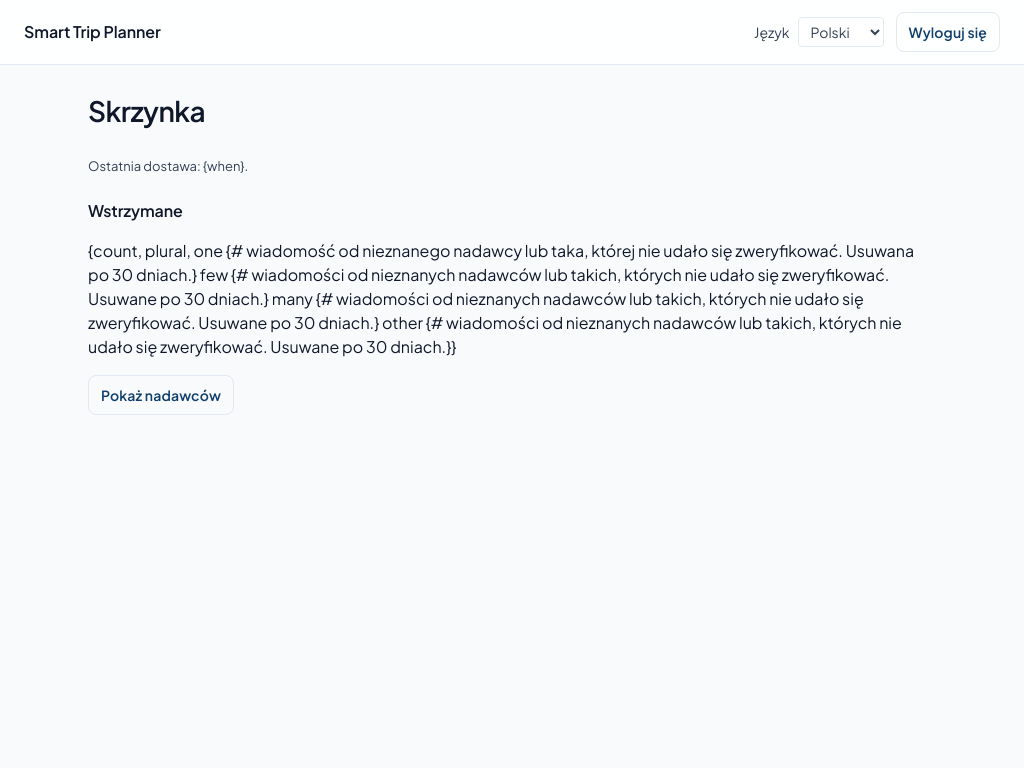
Test: quarantine › offers releasing for a failed authentication, and not trusting
Step 1. Click the button "Pokaż nadawców" → (161, 395), box top-left (88, 375), bottom-right (234, 415)
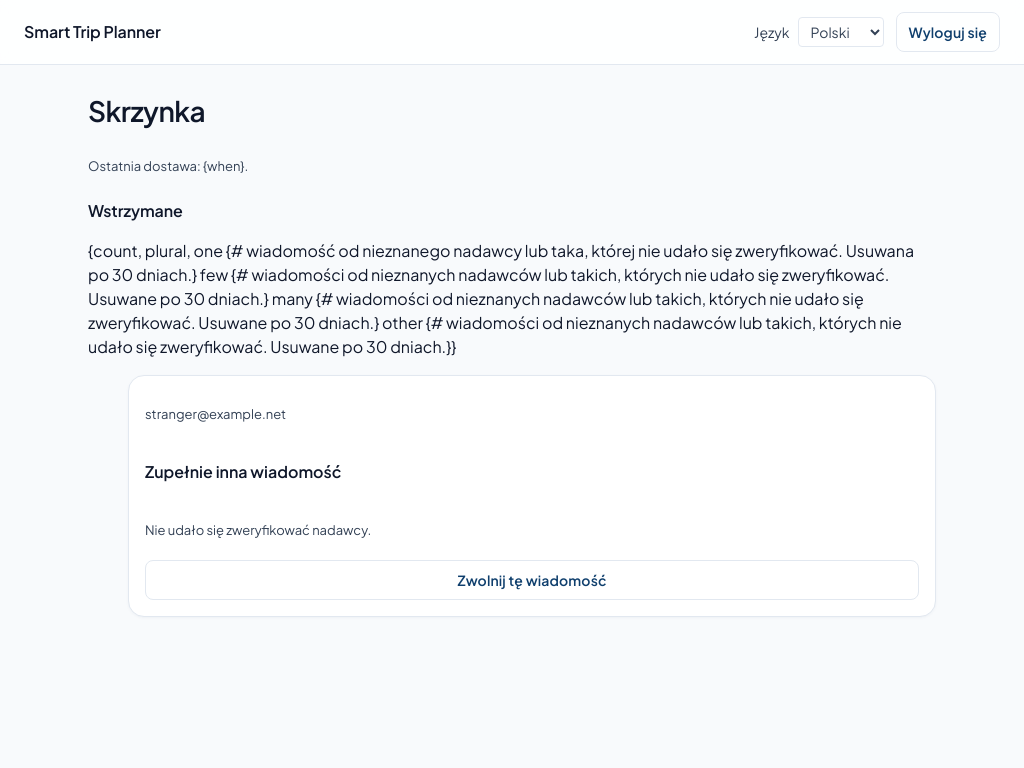
Check: the button "Zwolnij tę wiadomość" is shown, box top-left (145, 560), bottom-right (919, 600)
